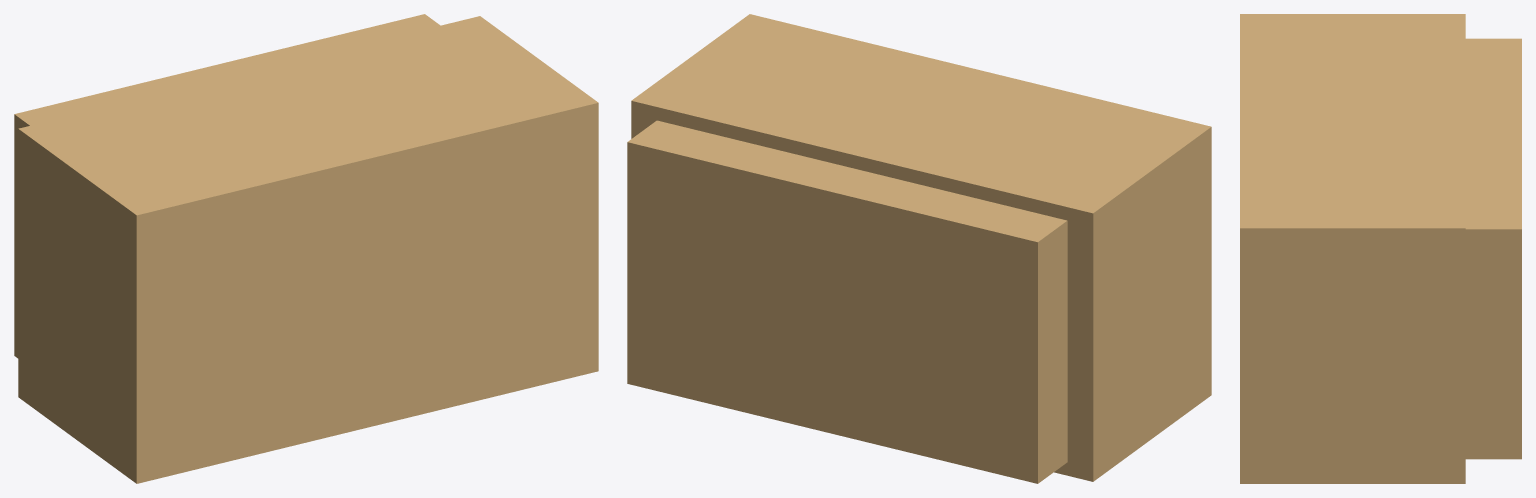
The model's file is Bread.glb.
The picture shows the model from 3 angles, left to right: view 1: azimuth 30°, elevation 25°; view 2: azimuth 150°, elevation 25°; view 3: azimuth 270°, elevation 25°; orthographic projection. The views are drawn at different scales.
Visible parts, largest first — view 1: Bread; view 2: Bread; view 3: Bread.
Boxes of the visible parts, x1,y1,x2,y2 form: Bread: [14, 14, 598, 483]; Bread: [627, 14, 1211, 483]; Bread: [1240, 14, 1521, 483].
Bounding box in the file's own units: 0.18 × 0.1 × 0.1.
